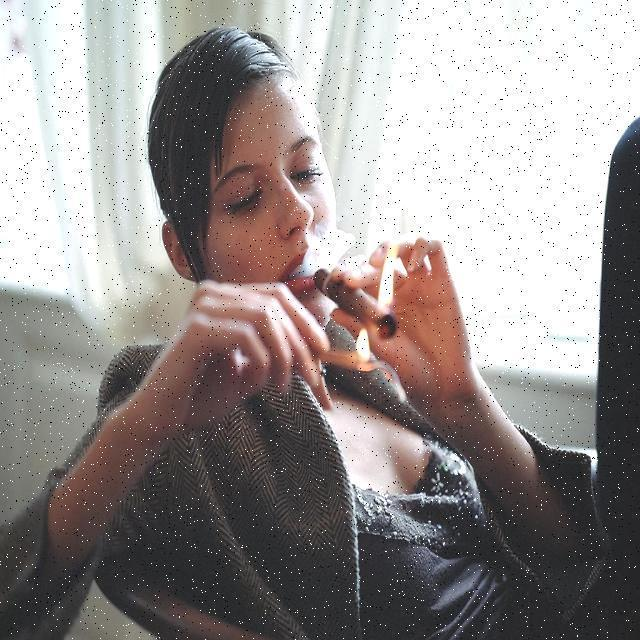smoke: (302, 225, 353, 274)
